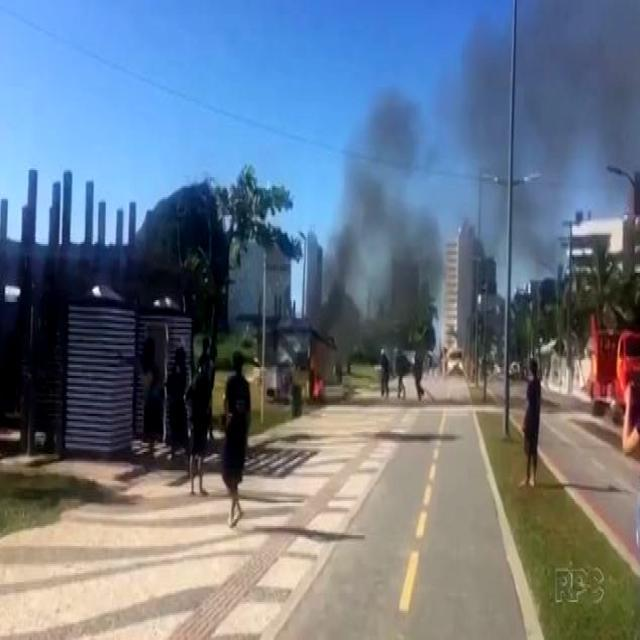Smoke: (456, 0, 640, 275), (312, 90, 468, 342)
